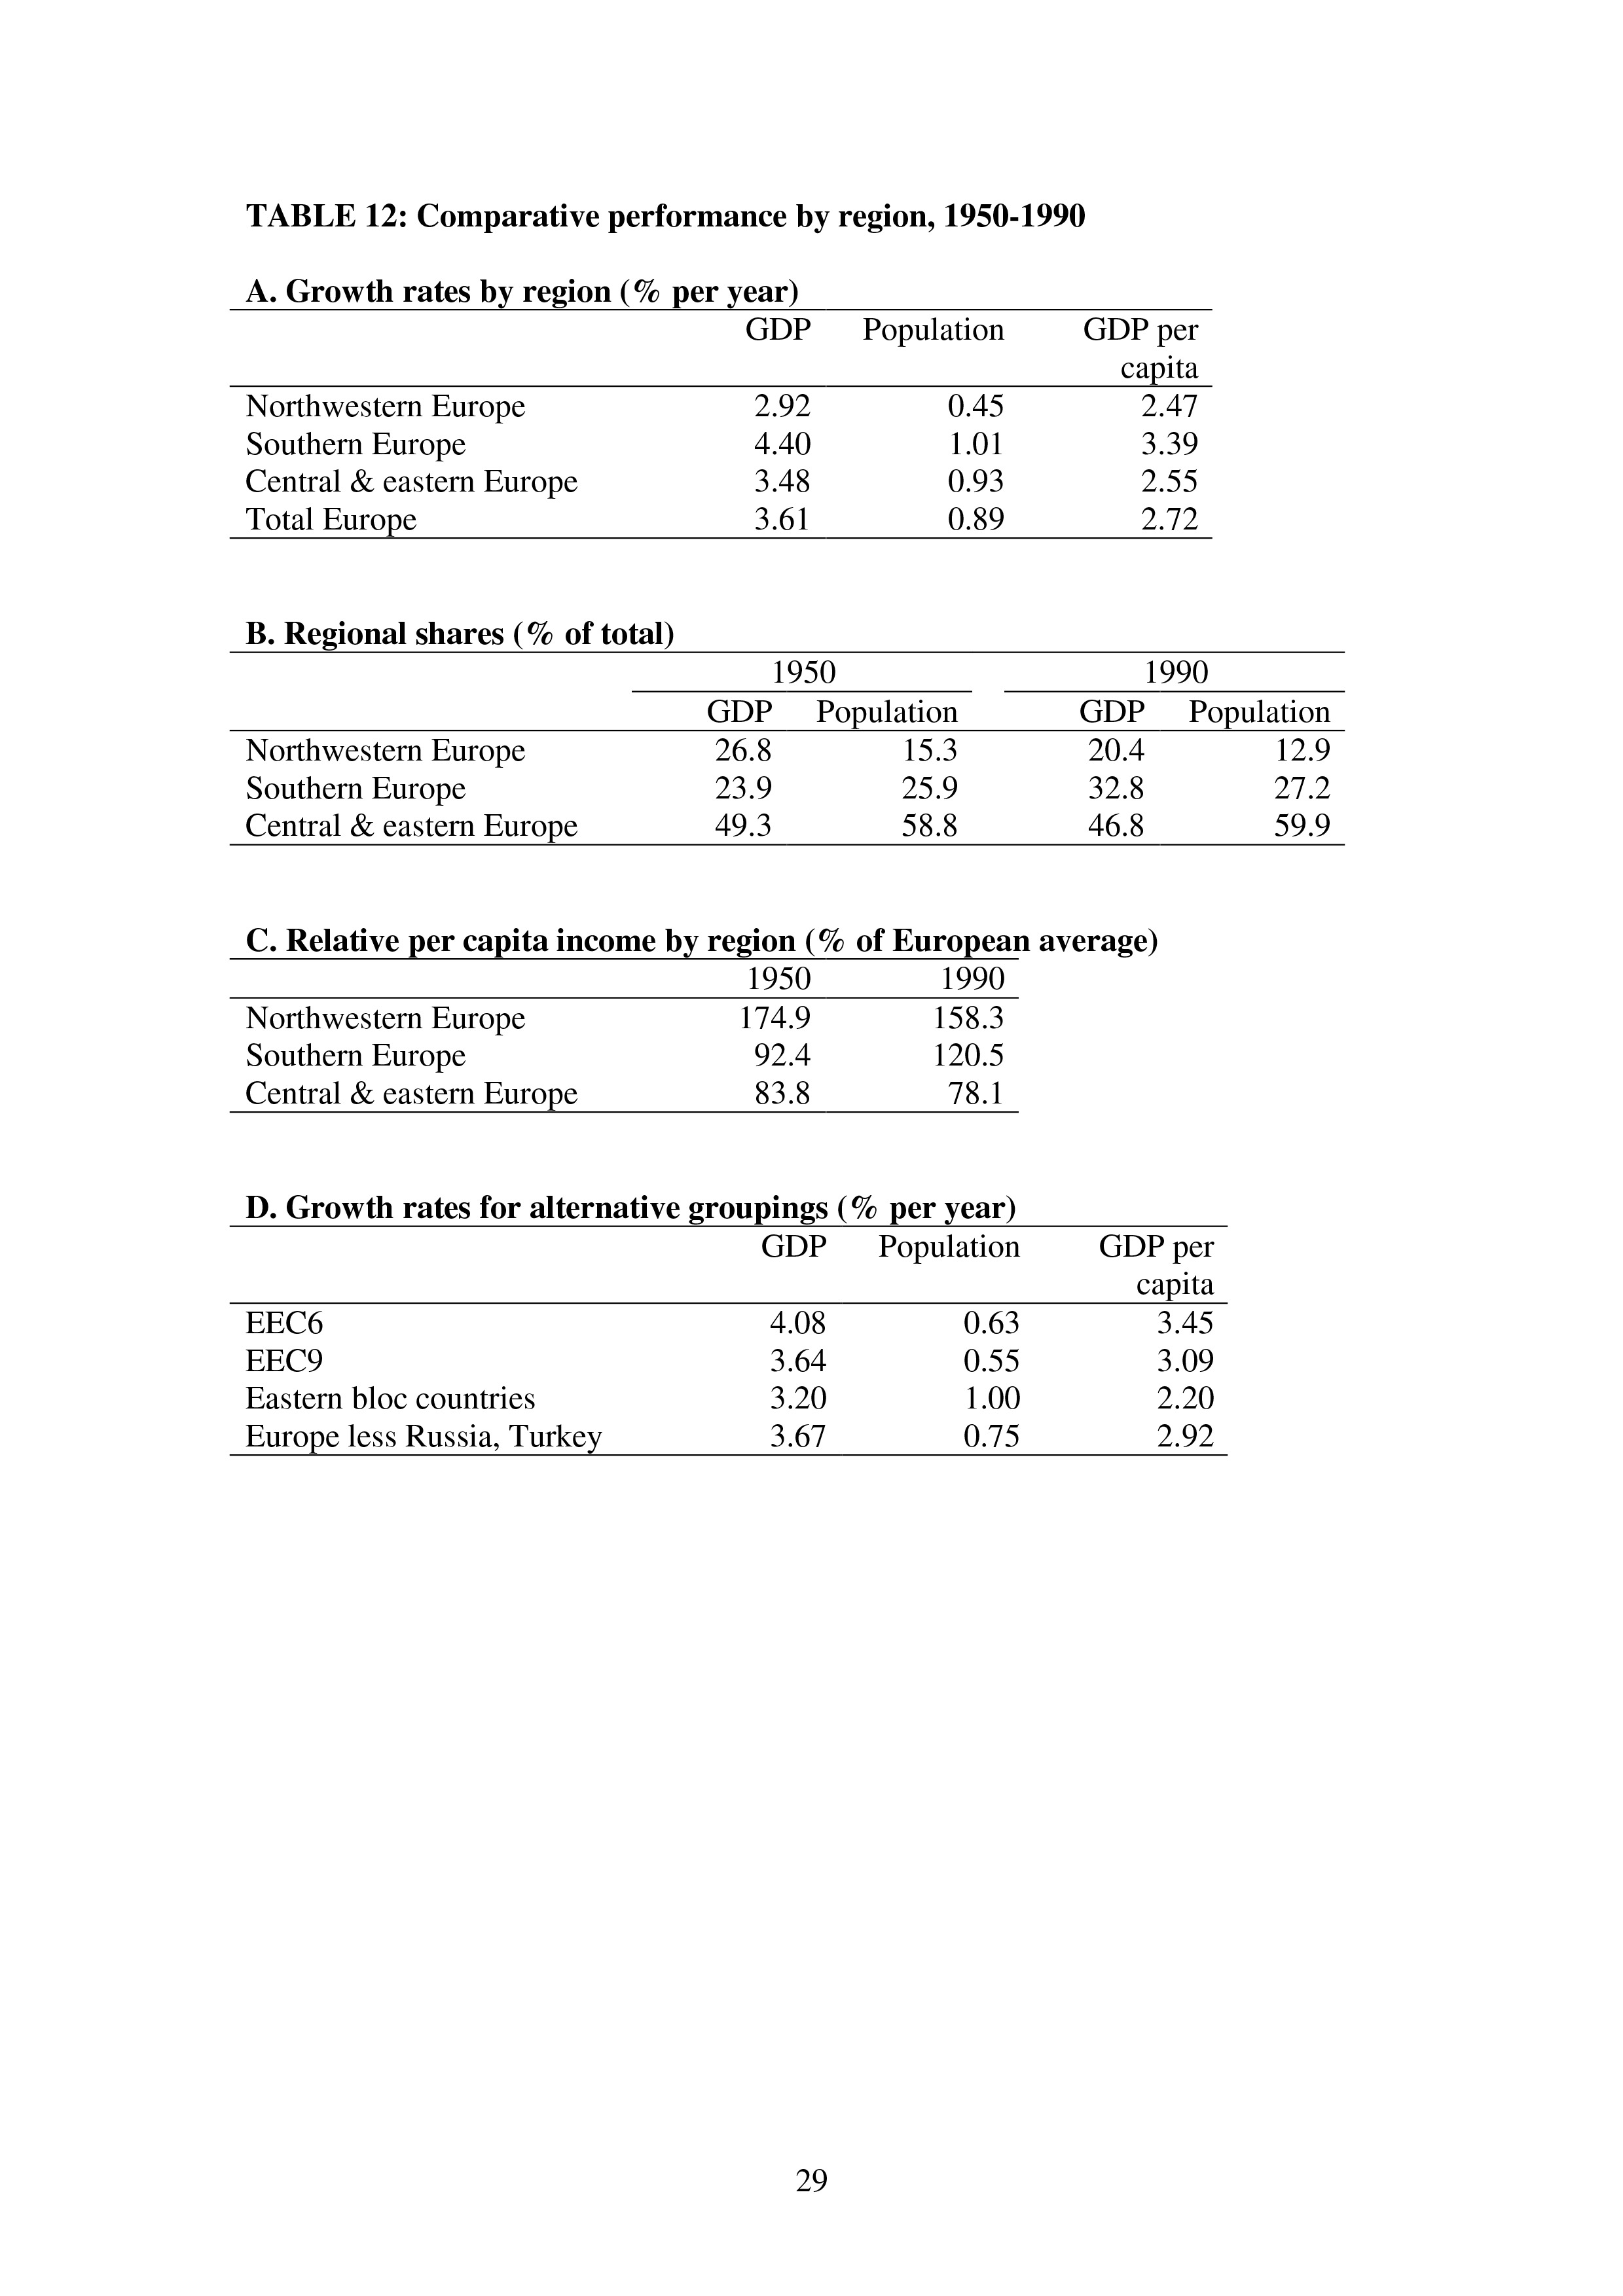caption: (228, 904, 1170, 972), (232, 176, 1093, 239), (232, 1176, 1057, 1236), (234, 606, 694, 665)
table: (218, 291, 1215, 560), (223, 637, 1330, 878), (195, 1239, 1223, 1478), (249, 972, 1050, 1127)
